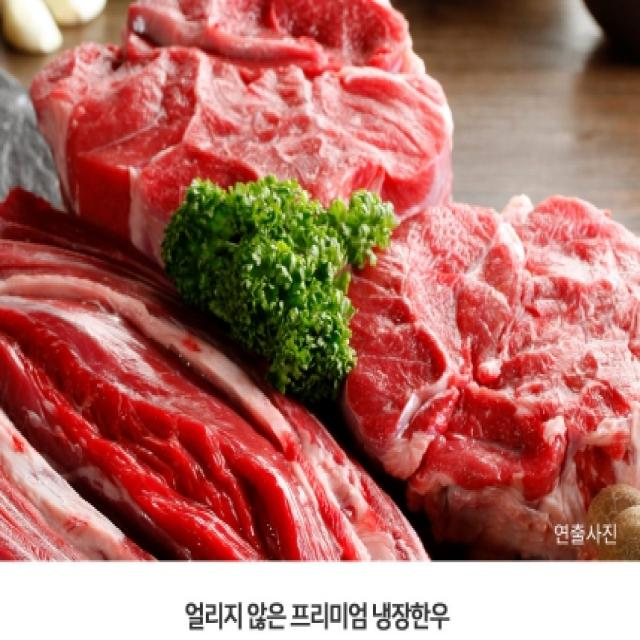beef: (58, 322, 228, 548), (407, 260, 581, 457), (189, 19, 393, 173)
